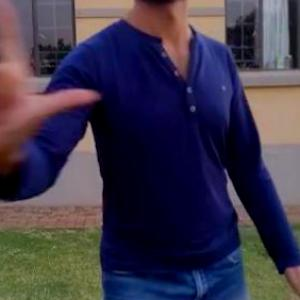land_hand: (0, 0, 105, 171)
